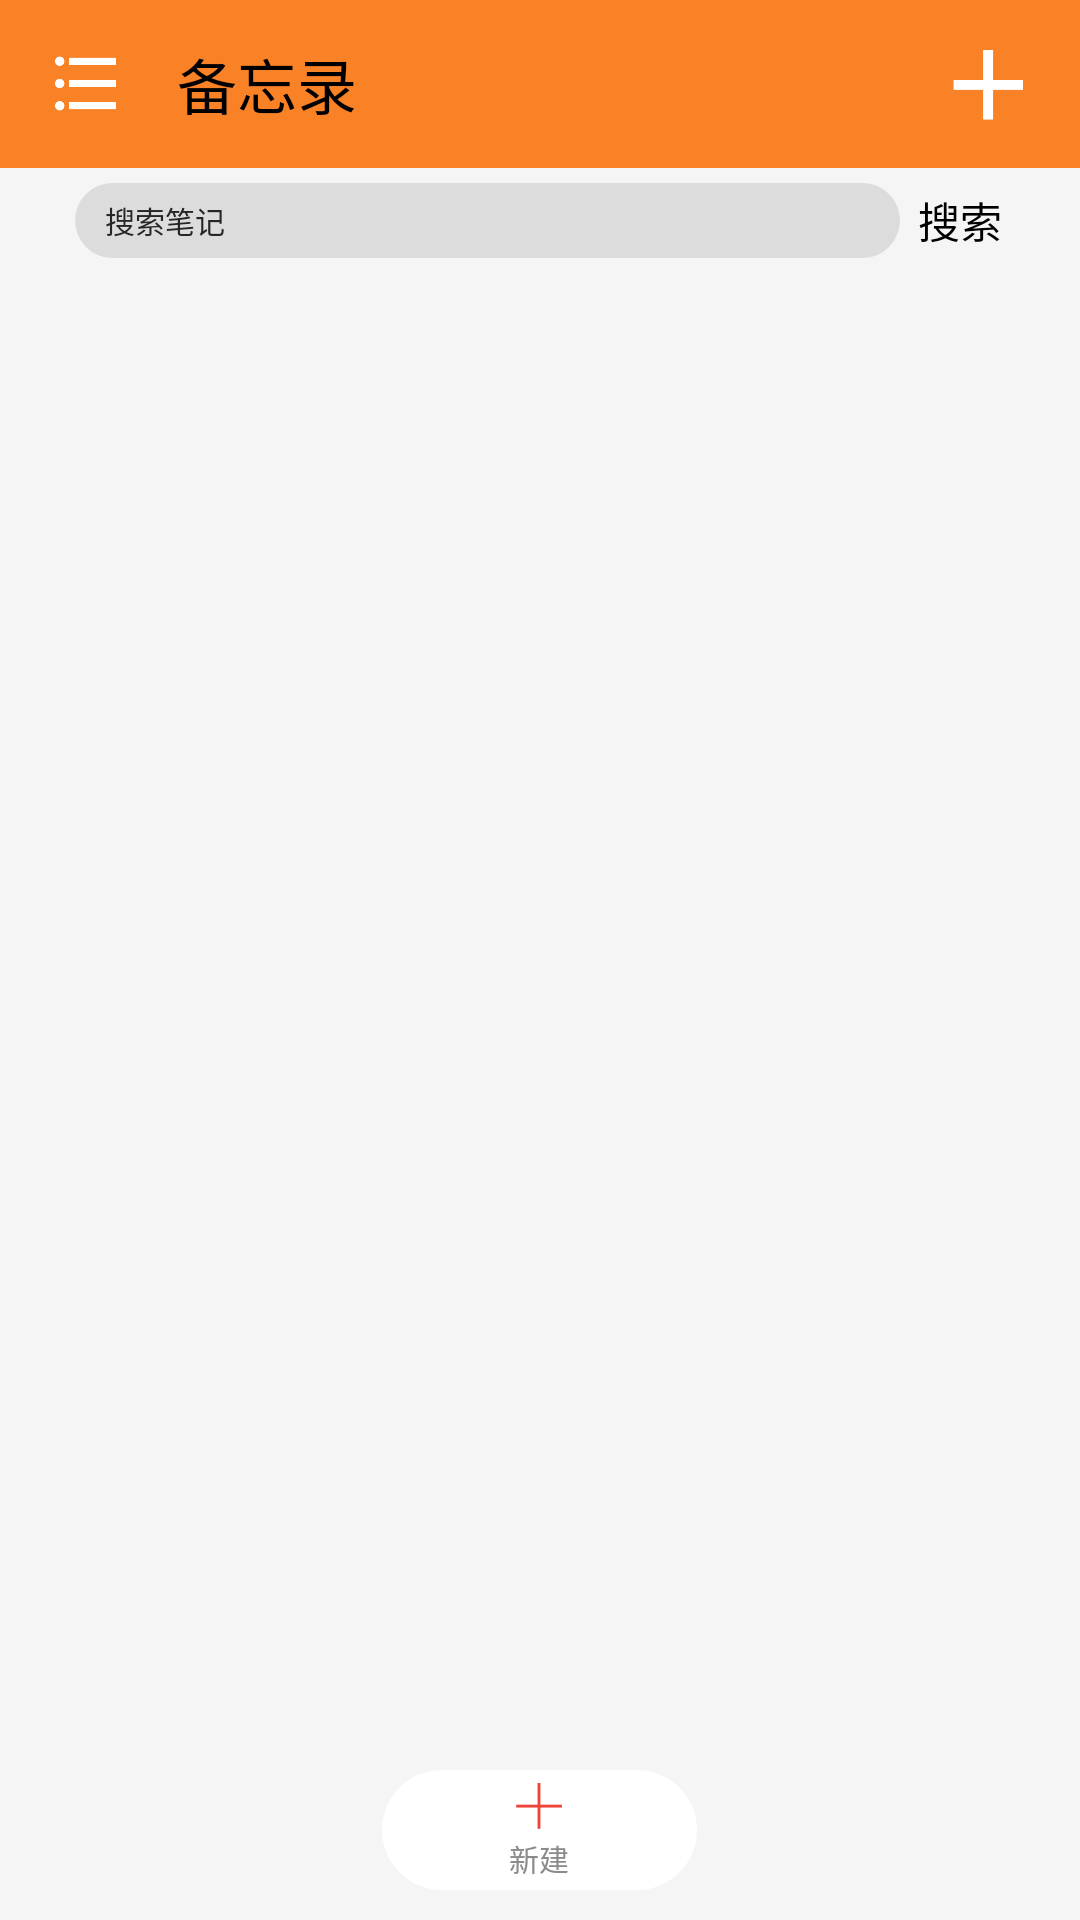

Icons on this 1080 × 1920 Android screen, each with its box as (x1, y1, x2, y2):
baisejiahao: (953, 50, 1023, 120)
jia: (516, 1783, 562, 1829)
wuxupailie: (55, 56, 116, 111)
